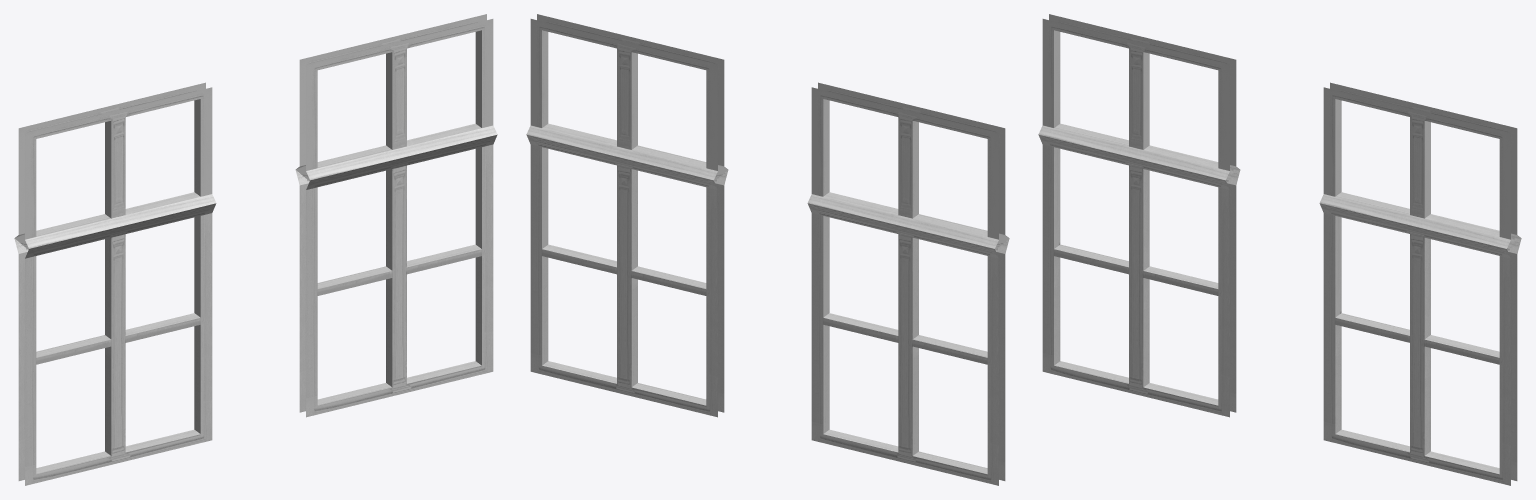
Rendered from Window2doubleA.fbx.
The picture shows the model from 3 angles, left to right: view 1: azimuth 30°, elevation 25°; view 2: azimuth 150°, elevation 25°; view 3: azimuth 330°, elevation 25°; orthographic projection.
Visible parts, largest first — view 1: Window2doubleA; view 2: Window2doubleA; view 3: Window2doubleA.
Boxes of the visible parts, left/top/right/bottom form: Window2doubleA: left=14, top=14, right=497, bottom=485; Window2doubleA: left=526, top=14, right=1009, bottom=485; Window2doubleA: left=1038, top=14, right=1521, bottom=485.
Bounding box in the file's own units: 250 × 180 × 13.57.
